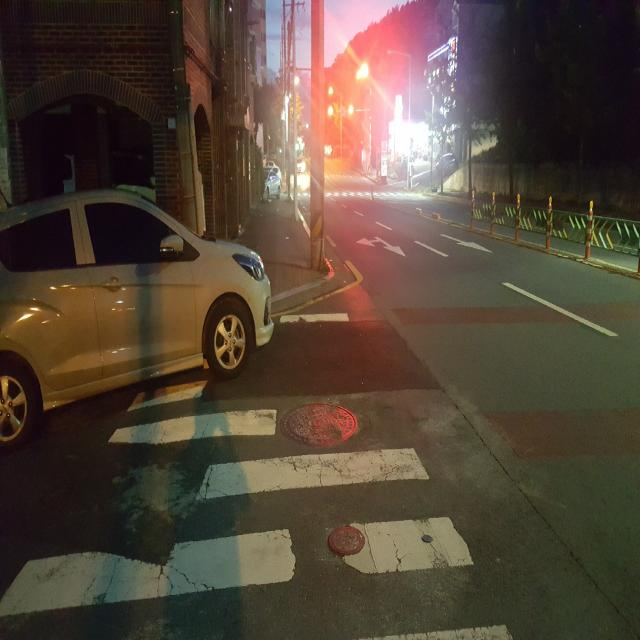횡단보도: (0, 312, 510, 639)
